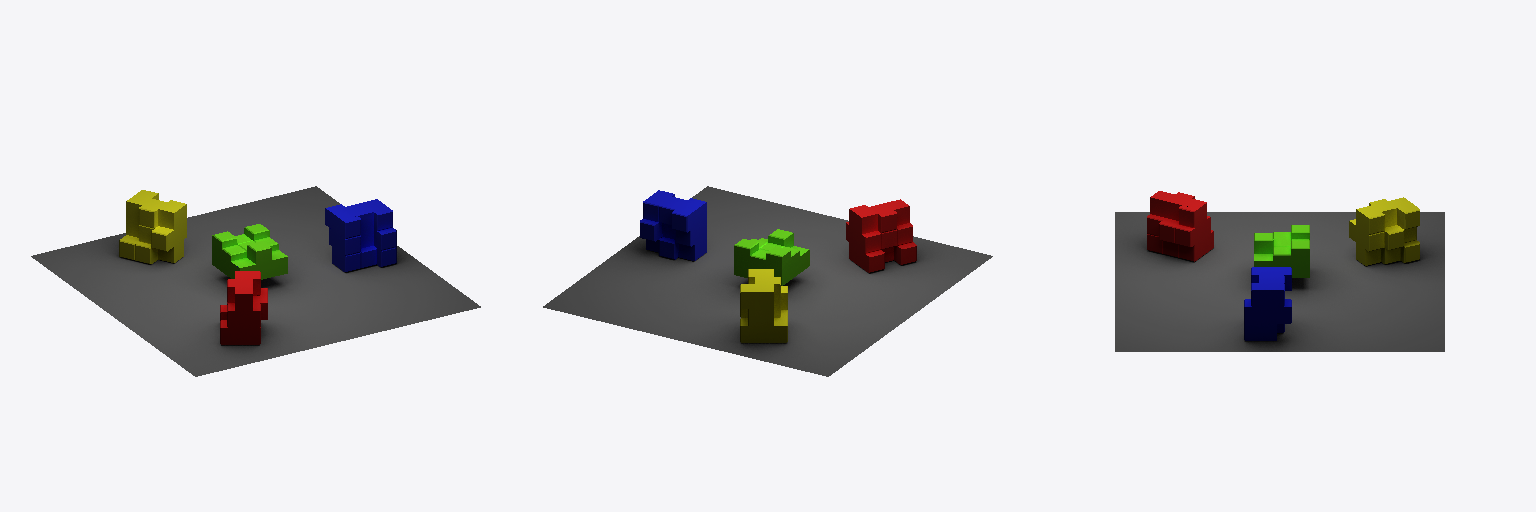
3 renders of one model, left to right at view 1: azimuth 30°, elevation 25°; view 2: azimuth 150°, elevation 25°; view 3: azimuth 270°, elevation 25°, orthographic.
Visible parts, largest first — view 1: object_1.000; view 2: object_1.000; view 3: object_1.000.
Part boxes in pixels (x1,y1,x2,y2): object_1.000: (31, 186, 480, 376); object_1.000: (543, 186, 992, 376); object_1.000: (1115, 191, 1444, 351).
Bounding box in the file's own units: 89.3 × 15.3 × 89.3.
Materials: 2 (2 with a texture image).